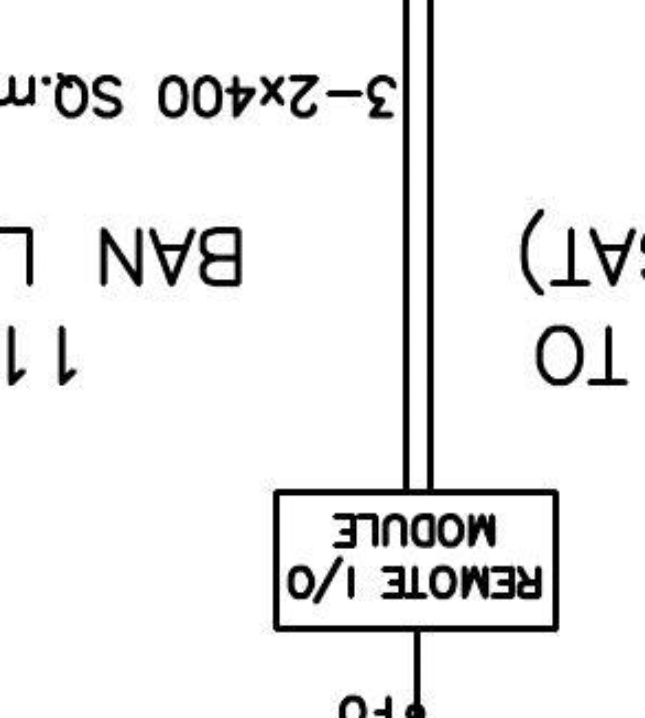remote_io_module: (273, 488, 561, 632)
